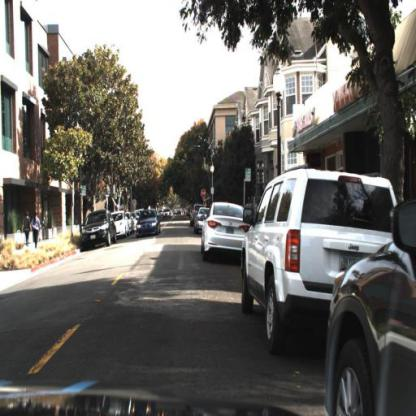car: (243, 168, 398, 352), (330, 199, 416, 416), (203, 202, 251, 267), (81, 209, 119, 253), (135, 207, 163, 238), (114, 209, 130, 238)
pedestrian: (32, 211, 42, 247), (23, 212, 33, 247), (23, 212, 32, 249), (33, 214, 40, 248)
